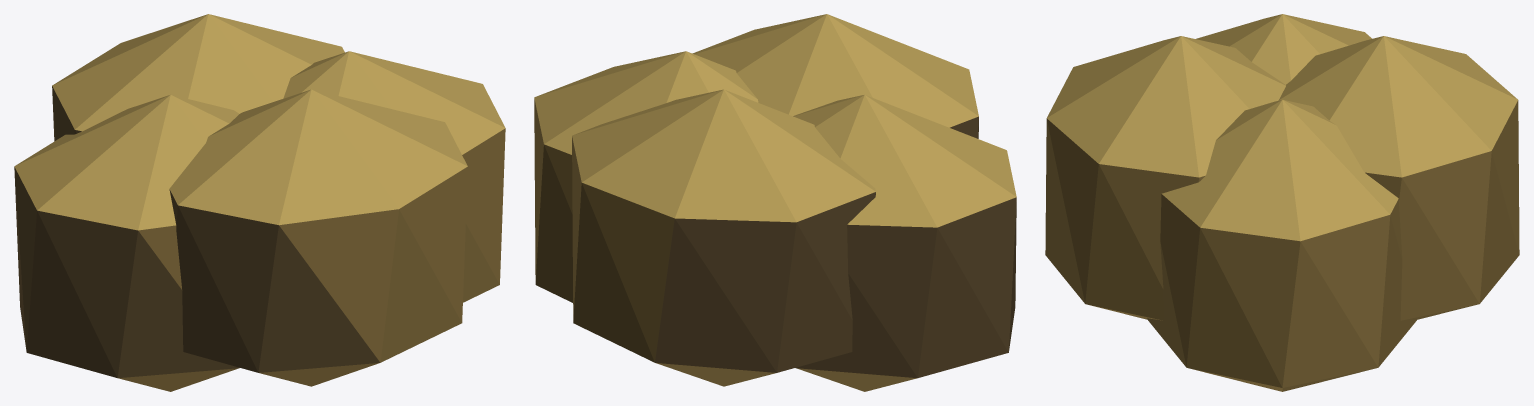
File: TW_VEG_BUSH_ROUND_B_LOD0.glb
The picture shows the model from 3 angles, left to right: view 1: azimuth 30°, elevation 25°; view 2: azimuth 150°, elevation 25°; view 3: azimuth 270°, elevation 25°; orthographic projection.
Parts seen in each view (by area): view 1: TW_VEG_BUSH_ROUND_B_LOD0; view 2: TW_VEG_BUSH_ROUND_B_LOD0; view 3: TW_VEG_BUSH_ROUND_B_LOD0.
Boxes of the visible parts, x1=… form: TW_VEG_BUSH_ROUND_B_LOD0: x1=14, y1=14, x2=505, y2=391; TW_VEG_BUSH_ROUND_B_LOD0: x1=534, y1=14, x2=1016, y2=391; TW_VEG_BUSH_ROUND_B_LOD0: x1=1045, y1=14, x2=1519, y2=391.
Size of the model in its own units: 1.15 by 0.75 by 1.03.
1 material, 1 textured.
